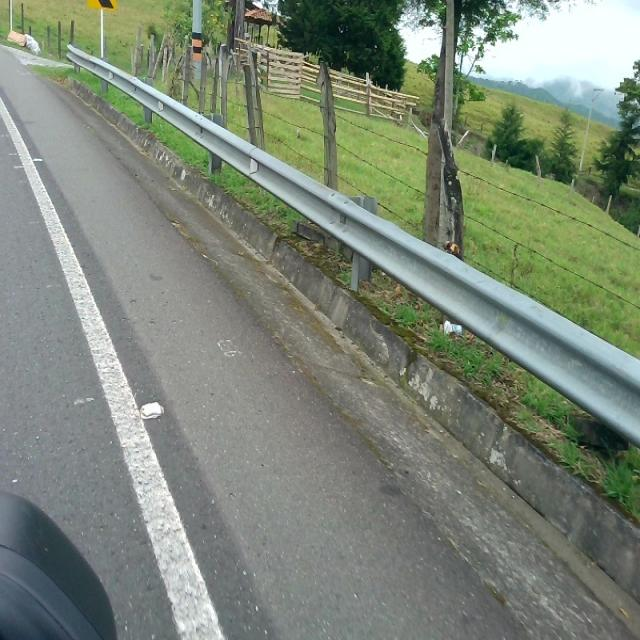DITCH: (3, 3, 635, 638), (25, 3, 638, 637), (2, 42, 638, 637)
